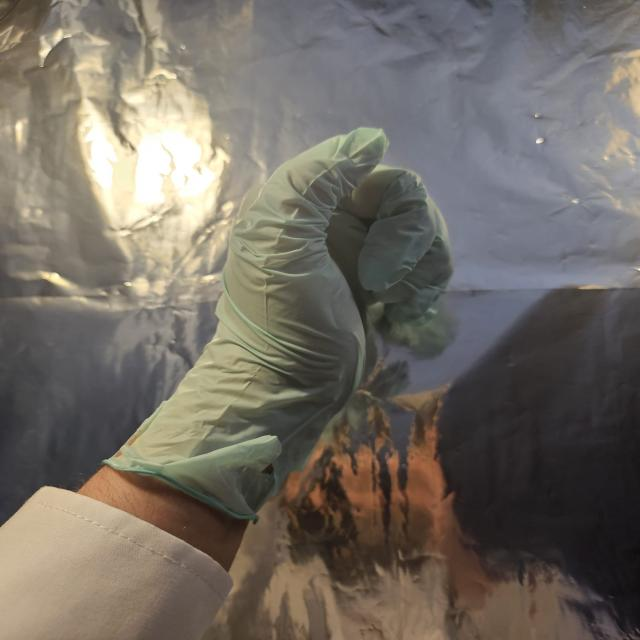gloves_damaged: (100, 123, 454, 522)
